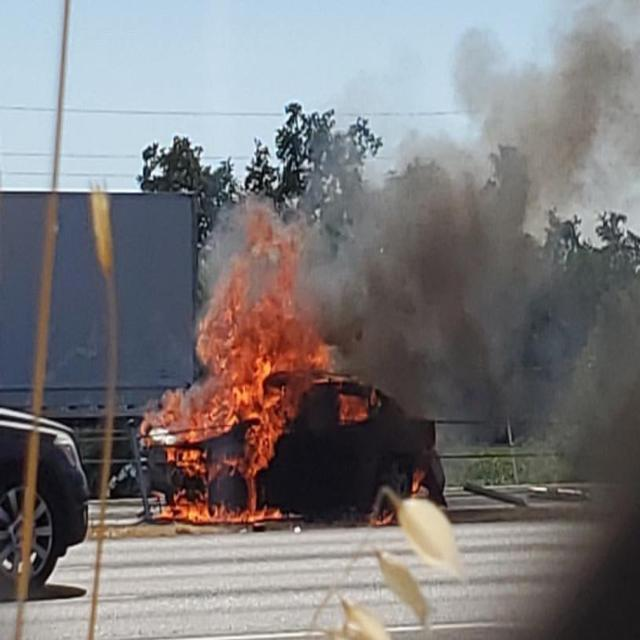Fire: (142, 215, 327, 525)
Smoke: (200, 6, 640, 439)
